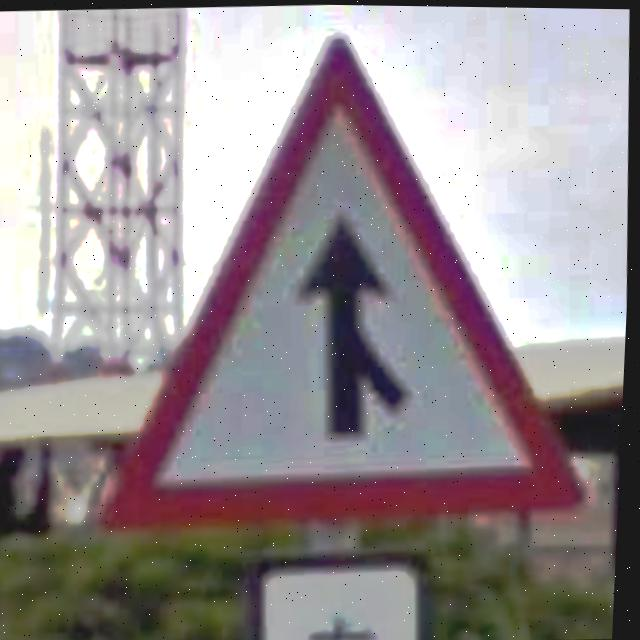rightmerge: (101, 34, 593, 536)
